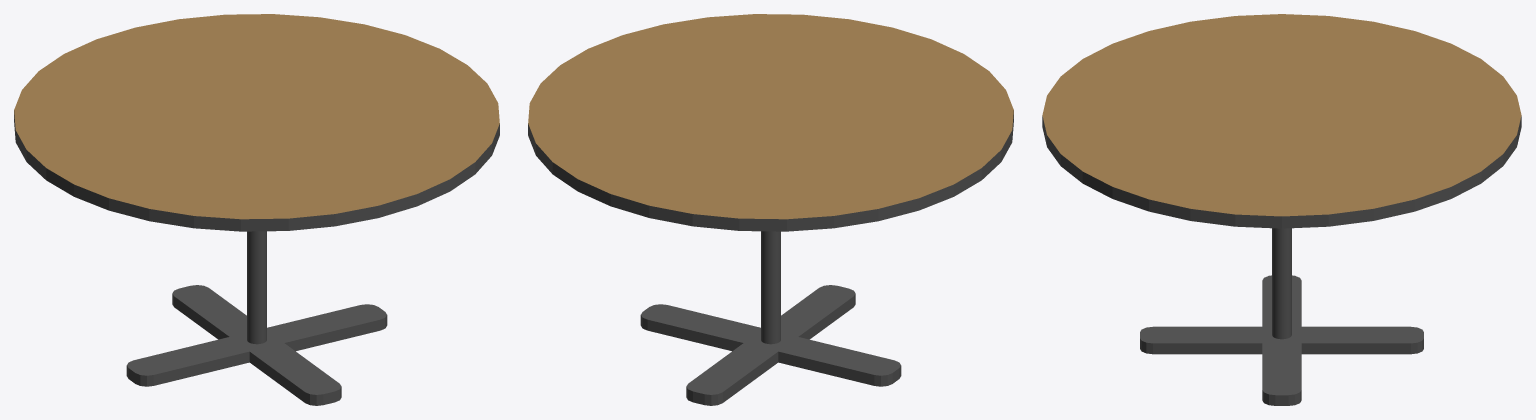
Rendered from table.fbx.
The picture shows the model from 3 angles, left to right: view 1: azimuth 30°, elevation 25°; view 2: azimuth 150°, elevation 25°; view 3: azimuth 270°, elevation 25°; orthographic projection.
Visible parts, largest first — view 1: Cylinder.004, Cube.002, Cylinder.003; view 2: Cylinder.004, Cube.002, Cylinder.003; view 3: Cylinder.004, Cube.002, Cylinder.003.
Part boxes in pixels (x1,y1,x2,y2): Cylinder.004: (14,14,499,231); Cube.002: (126,285,387,405); Cylinder.003: (247,231,266,344); Cylinder.004: (528,14,1013,231); Cube.002: (640,285,901,405); Cylinder.003: (761,231,780,344); Cylinder.004: (1042,14,1521,228); Cube.002: (1140,275,1423,405); Cylinder.003: (1272,228,1291,339).
Bounding box in the file's own units: 301 × 160 × 301.
